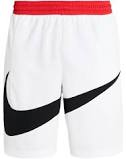nike: (4, 67, 123, 134)
